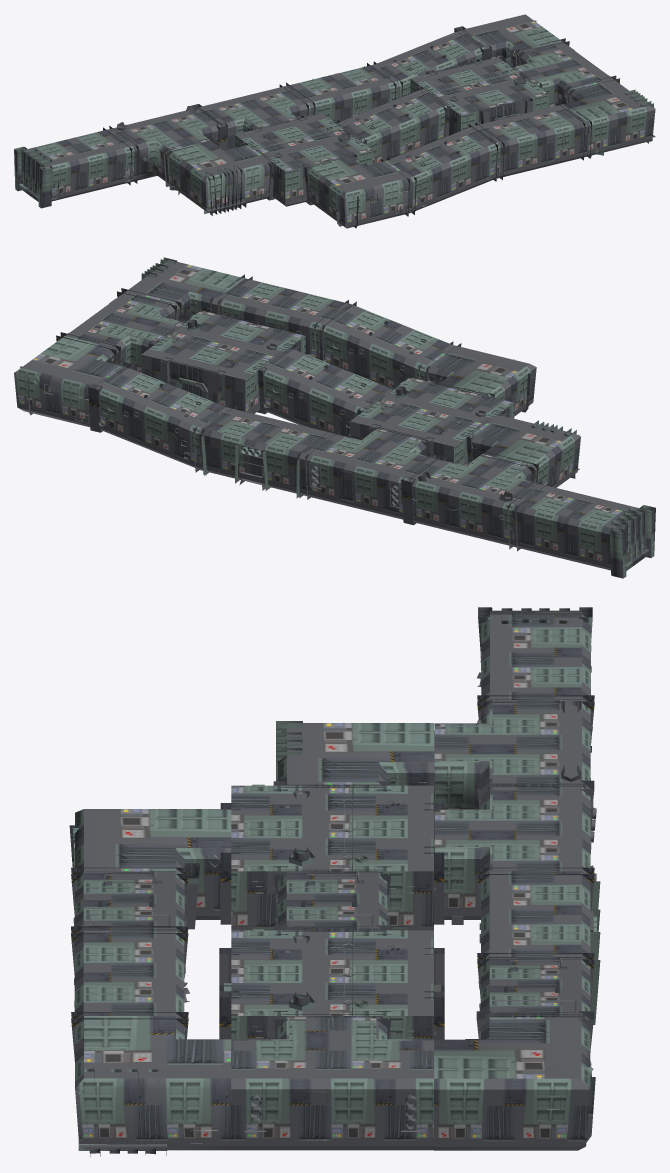
File: Combined_Mesh_root_scene__3_4fde1142__zombies2_diffuse_06_4771cff4_c1f257.obj
3 views of the same model, one above another, from view 1: azimuth 30°, elevation 25°; view 2: azimuth 150°, elevation 25°; view 3: azimuth 270°, elevation 25° (orthographic). The views are drawn at different scales.
Size of the model in its own units: 117 by 12.76 by 52.4.
230 materials, 230 textured.
